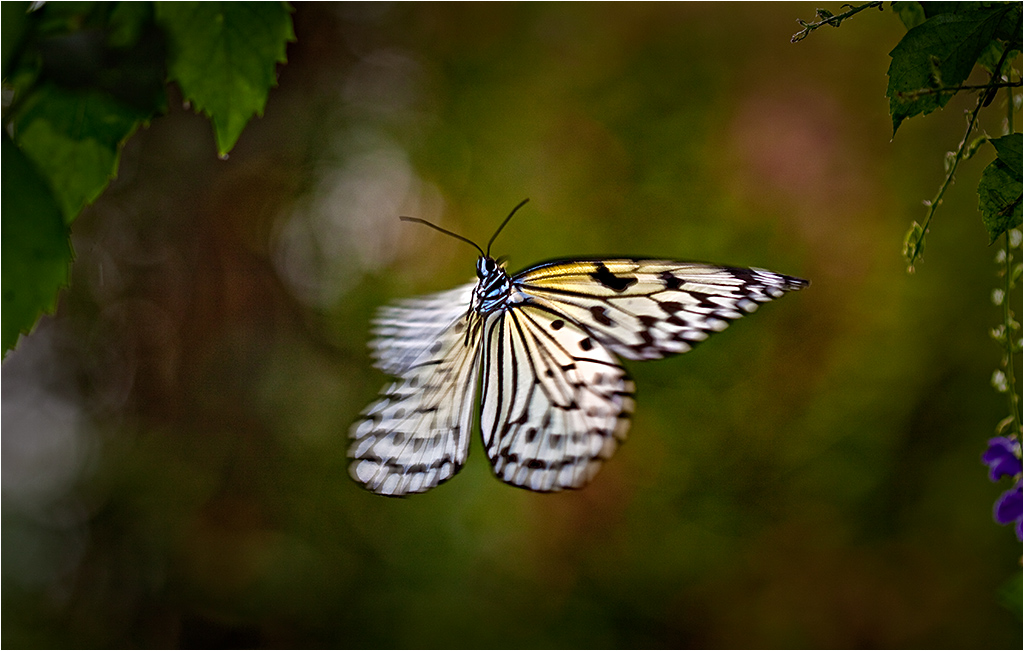insect: (344, 197, 811, 498)
